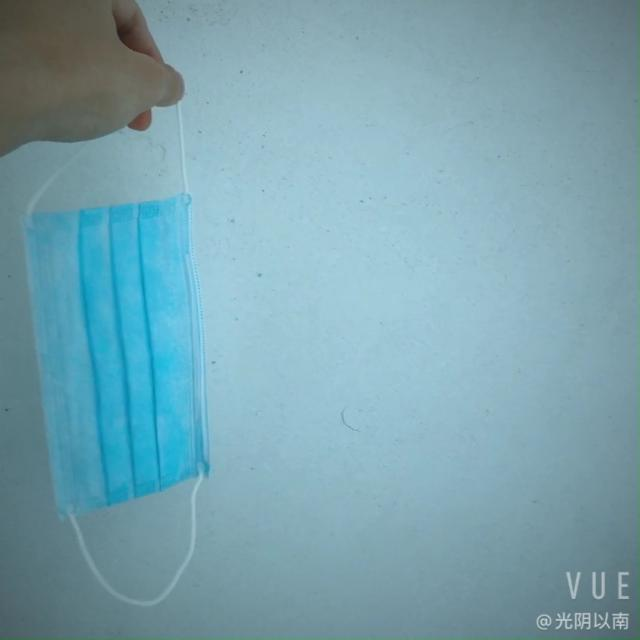face mask: (30, 194, 202, 510)
